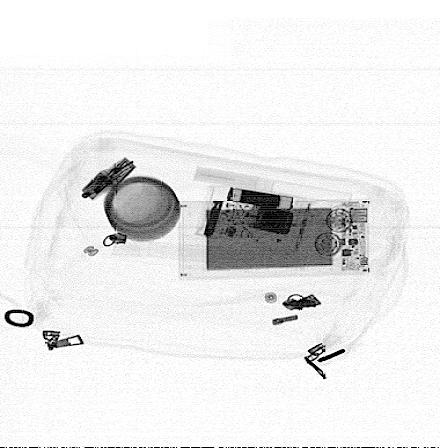Powerbank: (178, 197, 373, 280)
